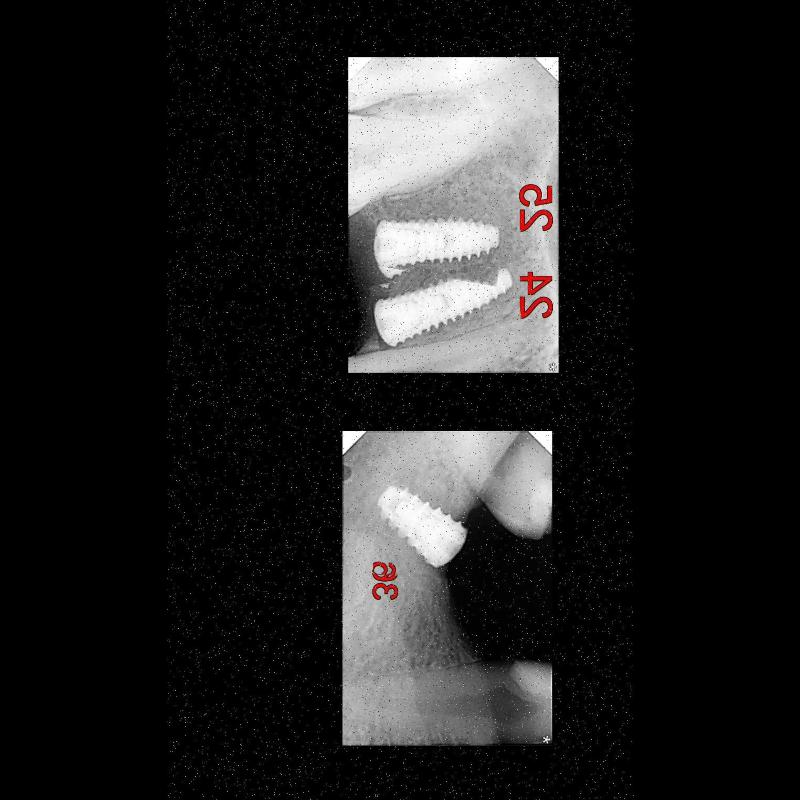osstem: (372, 270, 520, 346), (372, 203, 506, 281), (374, 488, 468, 578)
